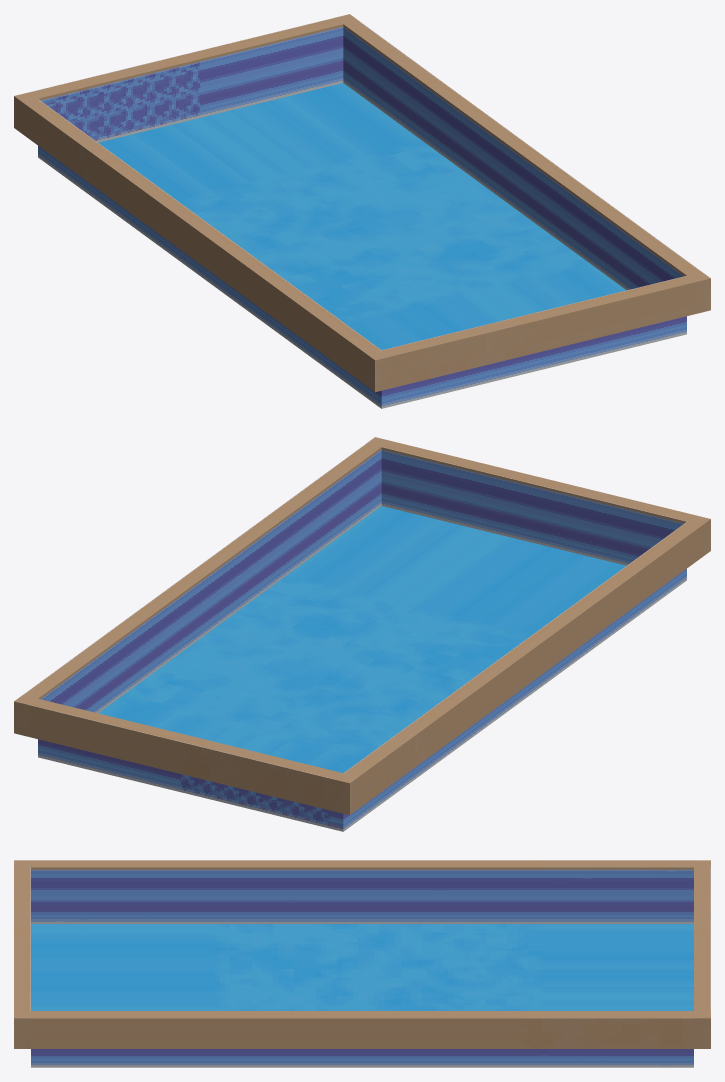
File: objects_un_t02hotelpool01.gltf
3 renders of one model, top to bottom at view 1: azimuth 30°, elevation 25°; view 2: azimuth 150°, elevation 25°; view 3: azimuth 270°, elevation 25°, orthographic. The views are drawn at different scales.
Visible parts, largest first — view 1: objects_un_t02hotelpool01_mesh_shape:objects_un_t02hotelpool, nomerge_objects_un_t02hotelpool01_caustics_mesh_shape:object; view 2: objects_un_t02hotelpool01_mesh_shape:objects_un_t02hotelpool, nomerge_objects_un_t02hotelpool01_caustics_mesh_shape:object; view 3: objects_un_t02hotelpool01_mesh_shape:objects_un_t02hotelpool, nomerge_objects_un_t02hotelpool01_caustics_mesh_shape:object.
Boxes of the visible parts, box(x1,y1,x2,y2) form: objects_un_t02hotelpool01_mesh_shape:objects_un_t02hotelpool: box(14, 14, 710, 408); nomerge_objects_un_t02hotelpool01_caustics_mesh_shape:object: box(98, 83, 626, 349); objects_un_t02hotelpool01_mesh_shape:objects_un_t02hotelpool: box(14, 437, 710, 831); nomerge_objects_un_t02hotelpool01_caustics_mesh_shape:object: box(98, 506, 626, 772); objects_un_t02hotelpool01_mesh_shape:objects_un_t02hotelpool: box(14, 860, 710, 1067); nomerge_objects_un_t02hotelpool01_caustics_mesh_shape:object: box(31, 924, 693, 1010).
Size of what is drawn, in the model's own units: 8.8 by 1.47 by 16.39.
Materials: 2 (2 with a texture image).
